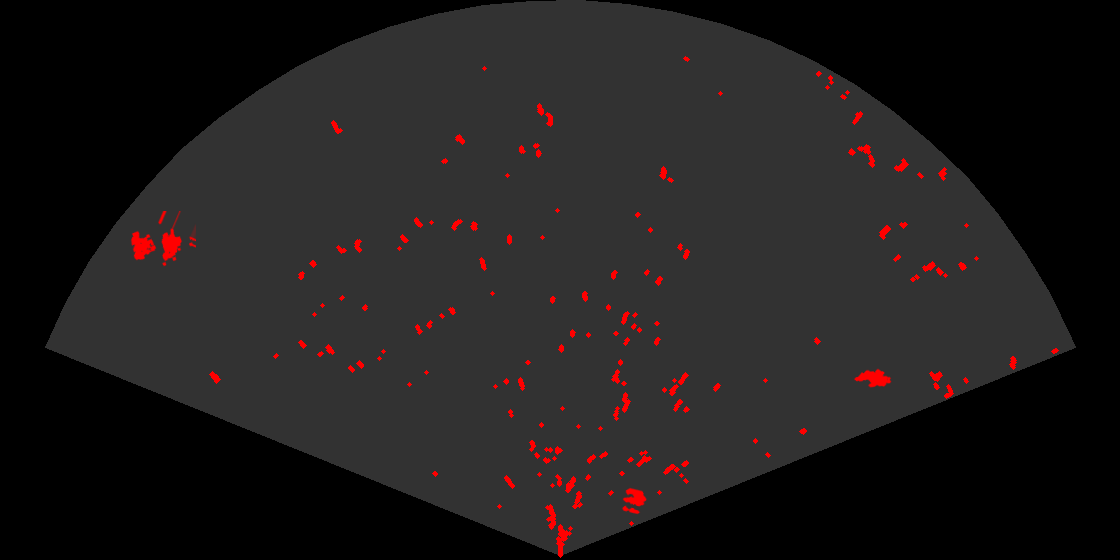AUV: (852, 367, 893, 389)
ball: (620, 486, 648, 516)
cage: (129, 211, 196, 268)
